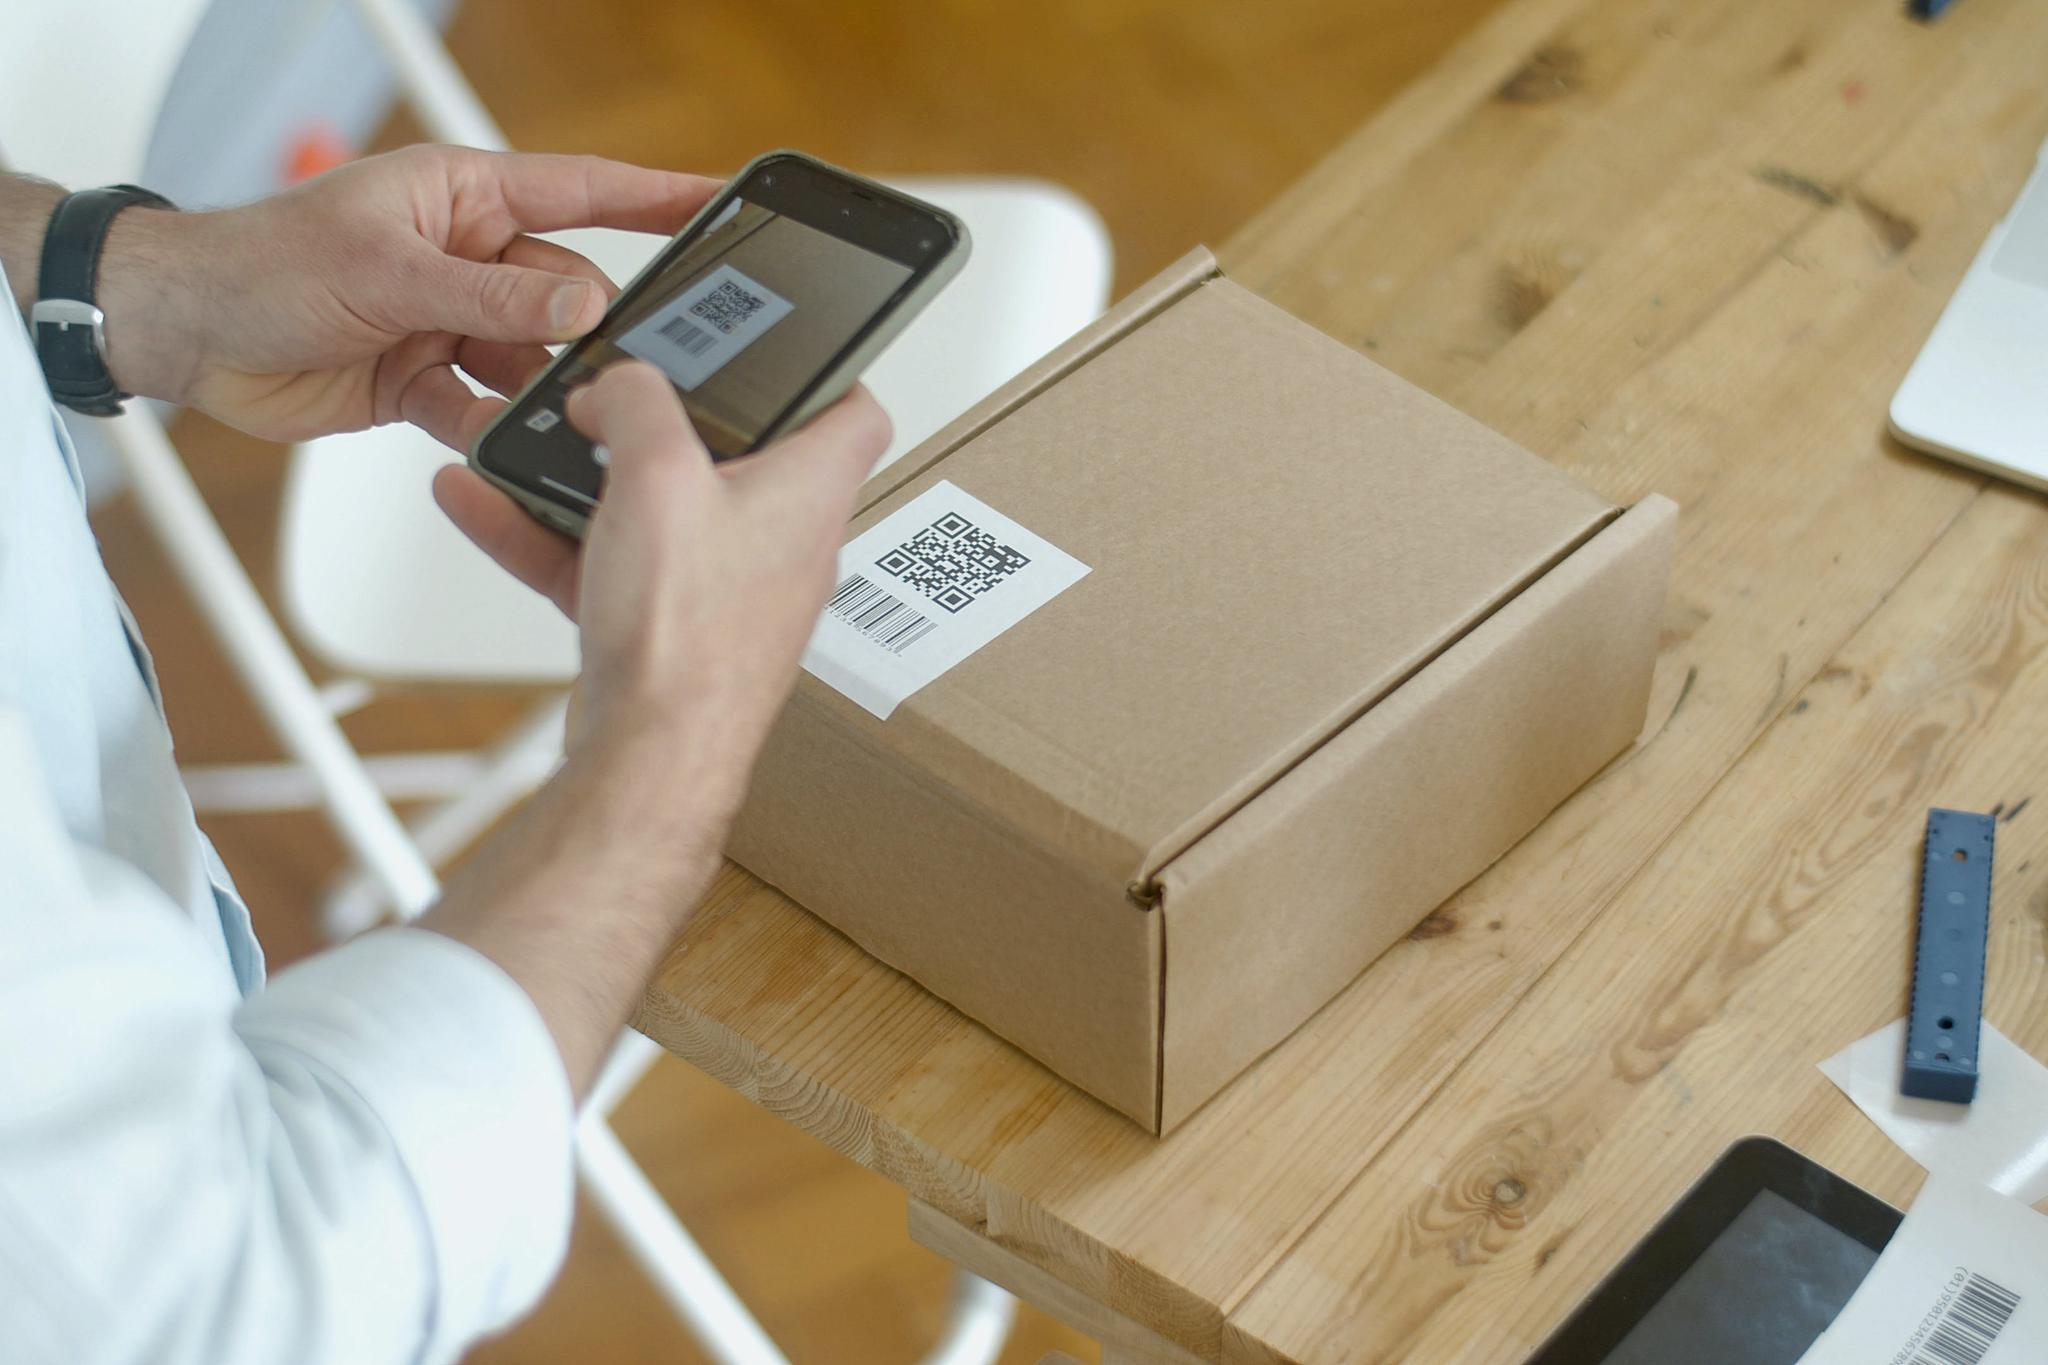qr_code: (874, 512, 1031, 614), (690, 280, 766, 335)
